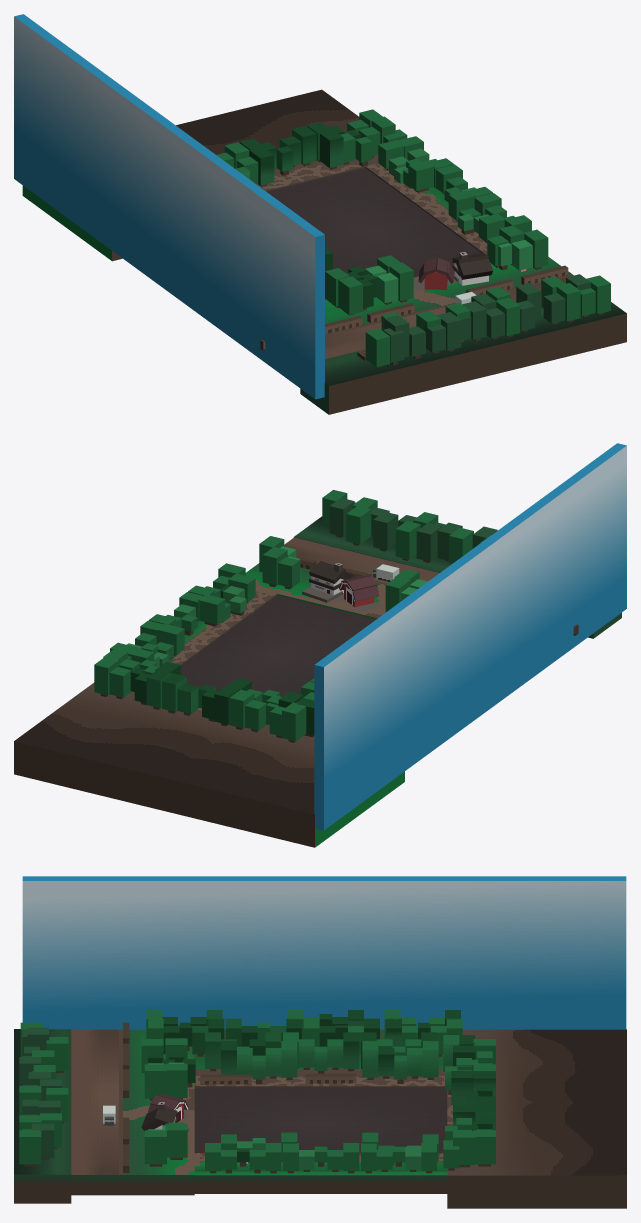
File: farm_landscape_background.gltf
3 views of the same model, one above another, from view 1: azimuth 30°, elevation 25°; view 2: azimuth 150°, elevation 25°; view 3: azimuth 270°, elevation 25° (orthographic).
Visible parts, largest first — view 1: cube (×26); view 2: cube (×25); view 3: cube (×34).
Boxes of the visible parts, box(x1,y1,x2,y2) form: cube (×26): box(14, 14, 626, 414); cube (×25): box(14, 443, 626, 847); cube (×34): box(14, 876, 626, 1208).
Bounding box in the file's own units: 1.41 × 0.7897 × 2.41.
1 material, 1 textured.
